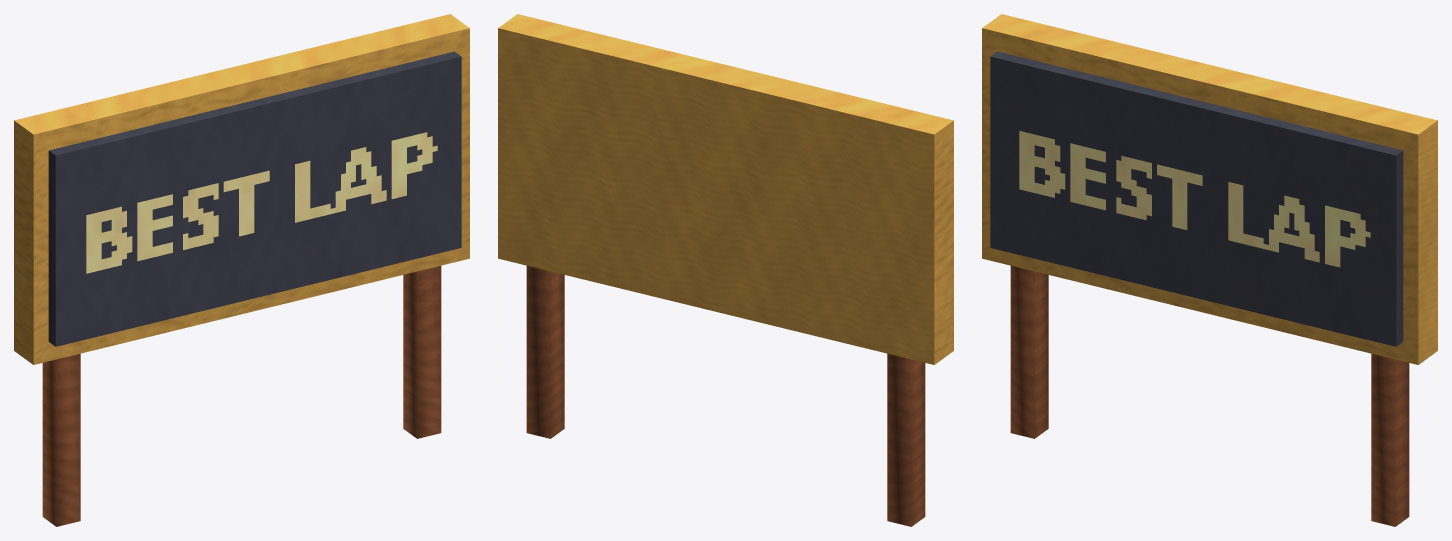
The model's file is race_scoreboard.glb.
The picture shows the model from 3 angles, left to right: view 1: azimuth 30°, elevation 25°; view 2: azimuth 150°, elevation 25°; view 3: azimuth 330°, elevation 25°; orthographic projection.
Visible parts, largest first — view 1: Body; view 2: Body; view 3: Body.
Boxes of the visible parts, x1,y1,x2,y2 form: Body: (14,14,469,526); Body: (498,14,953,526); Body: (982,14,1437,526).
Size of the model in its own units: 2.08 by 1.83 by 0.224.
1 material, 1 textured.
